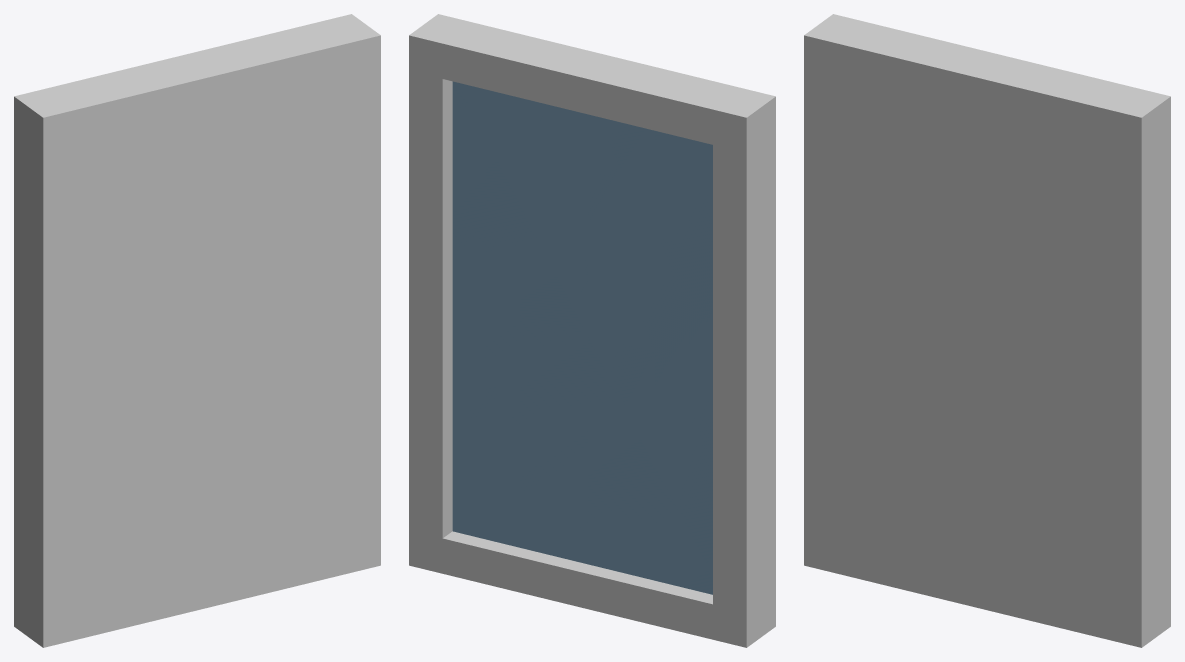
Rendered from OneBigWindow.fbx.
3 renders of one model, left to right at view 1: azimuth 30°, elevation 25°; view 2: azimuth 150°, elevation 25°; view 3: azimuth 330°, elevation 25°, orthographic.
Visible parts, largest first — view 1: OneBigWindow; view 2: OneBigWindow; view 3: OneBigWindow.
Boxes of the visible parts, x1,y1,x2,y2 form: OneBigWindow: (14, 14, 380, 647); OneBigWindow: (409, 14, 775, 647); OneBigWindow: (804, 14, 1170, 647).
Bounding box in the file's own units: 200 × 300 × 30.
